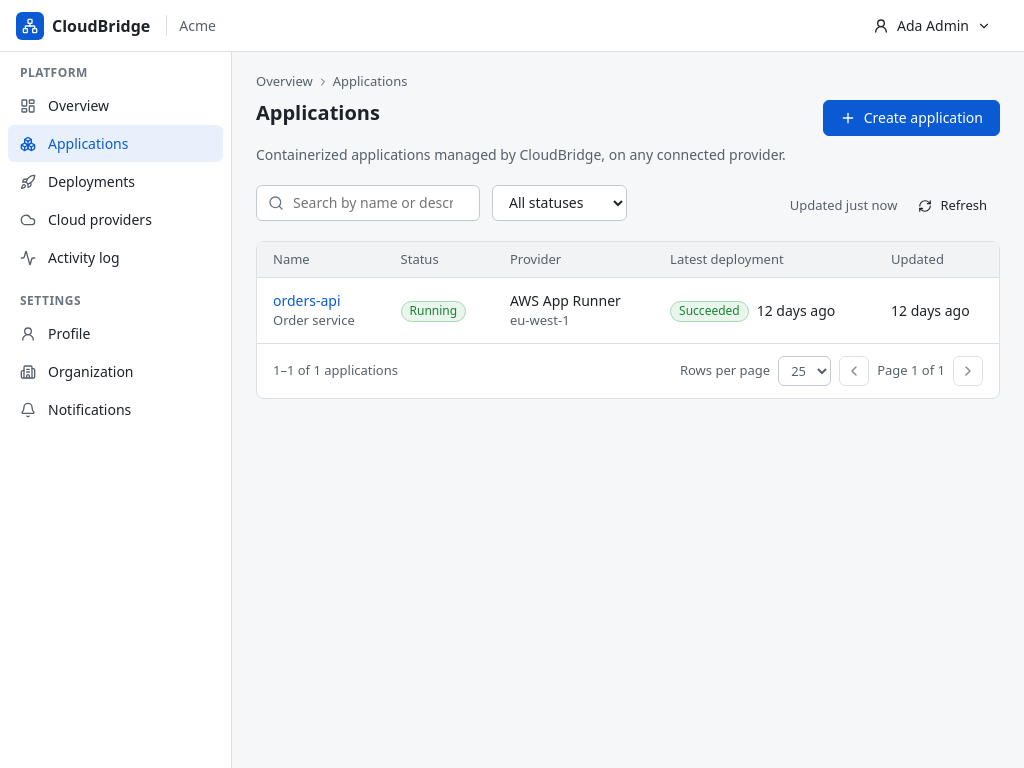
Test case: applications list › keeps the last data visible when a refresh fails
The width and height of the screenshot is (1024, 768).
Expected: the link "orders-api" is shown, [273,291,341,310]
Click the button "Refresh": (953, 206) [905,190,1000,220]
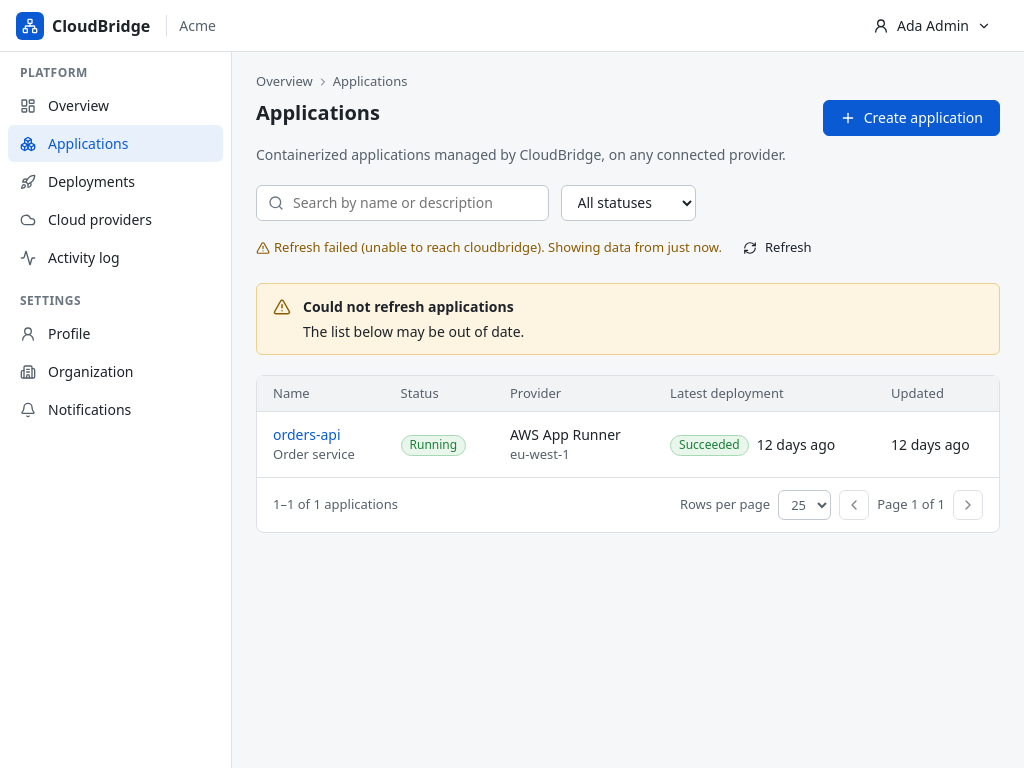
Expected: the link "orders-api" is shown, [273,425,341,444]
Now the text "Could not refresh applications" is shown, box [303,296,514,316]
